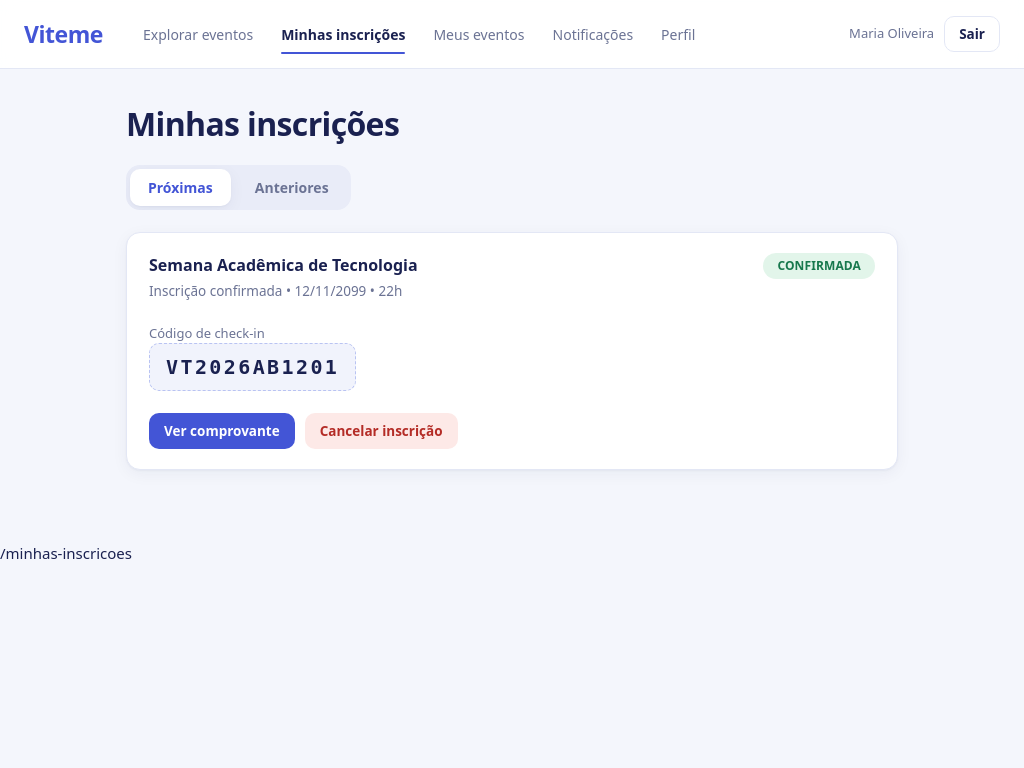
Test: inscrição e pagamento › CTW10 — fora do prazo (422) mostra a mensagem da API
The width and height of the screenshot is (1024, 768).
Click the button "Cancelar inscrição" at [381, 431], box [305,413,458,449]
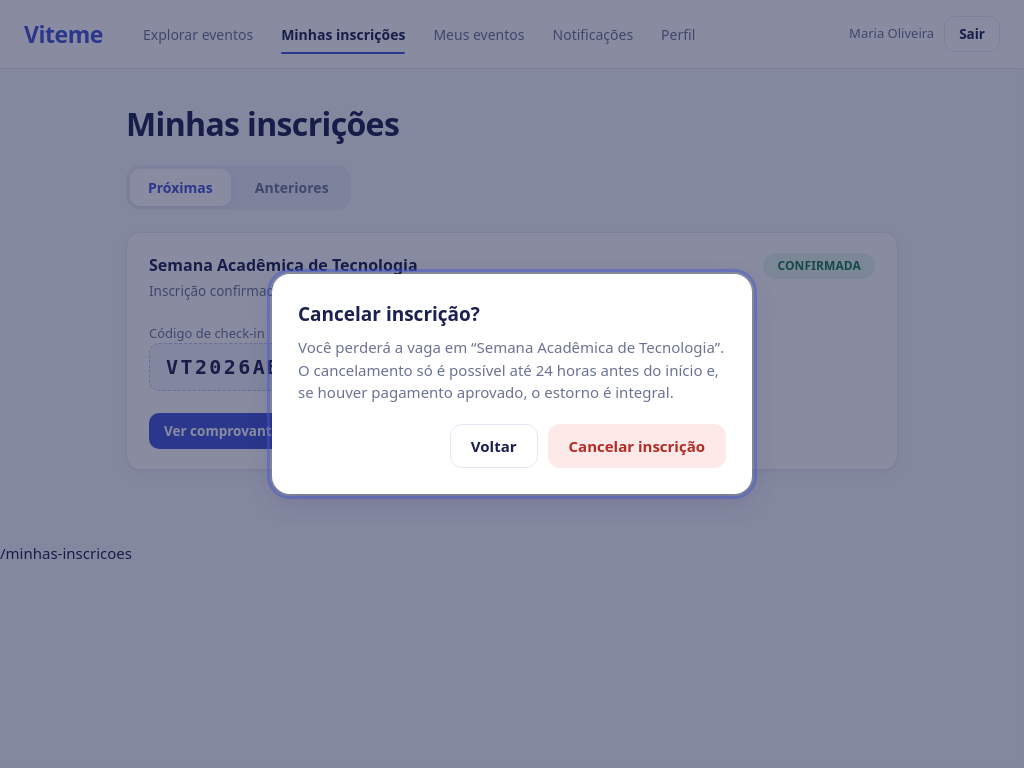
Click the button "Cancelar inscrição" at [637, 446], box [548,424,726,468]
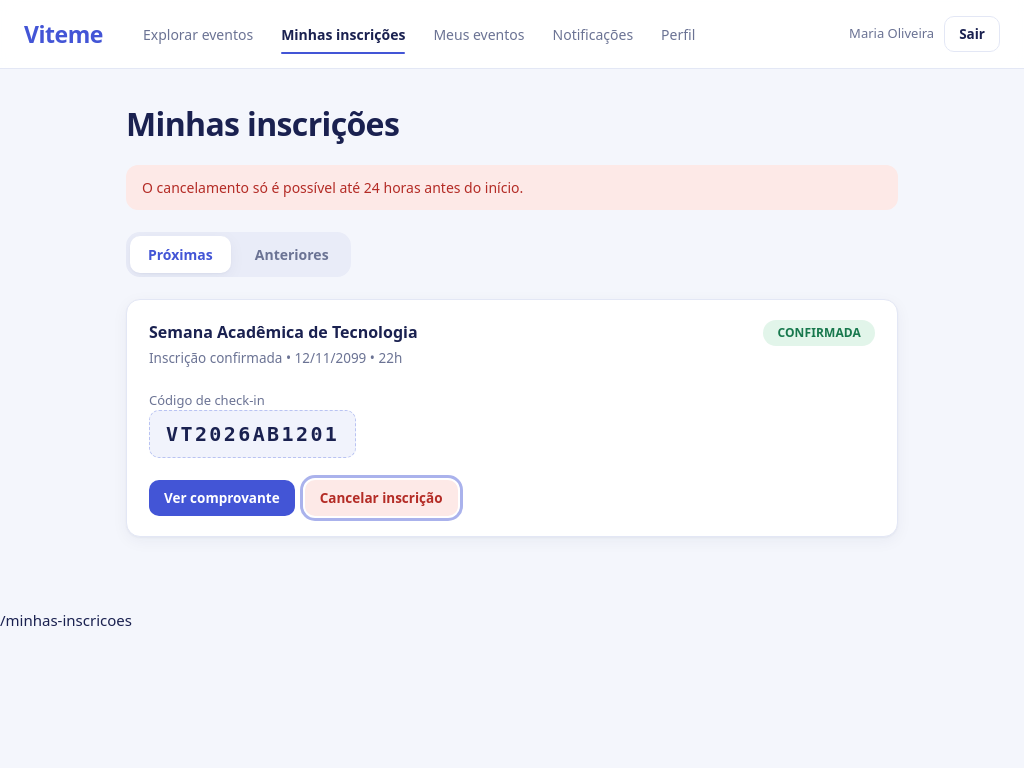
Expected: the message shows "até 24 horas antes do início", [142,178,523,197]
